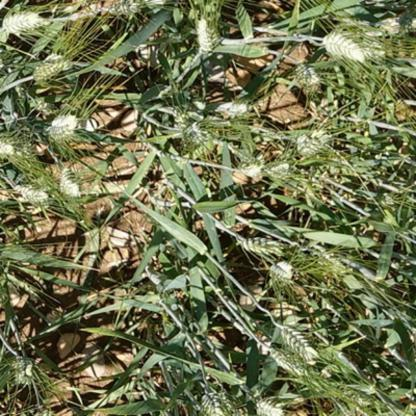whd: (318, 31, 387, 67), (22, 47, 76, 90), (260, 346, 321, 382), (280, 323, 324, 370), (94, 0, 168, 22), (234, 234, 288, 262), (192, 12, 222, 53), (56, 161, 86, 199), (2, 9, 46, 34), (294, 128, 331, 156), (216, 92, 255, 118), (250, 393, 288, 416), (197, 390, 230, 416), (266, 254, 294, 284), (333, 386, 373, 406), (11, 356, 36, 384), (46, 115, 80, 135), (293, 63, 320, 87), (239, 162, 269, 180), (184, 119, 208, 141), (12, 183, 46, 198), (266, 160, 290, 178), (0, 140, 17, 158)
